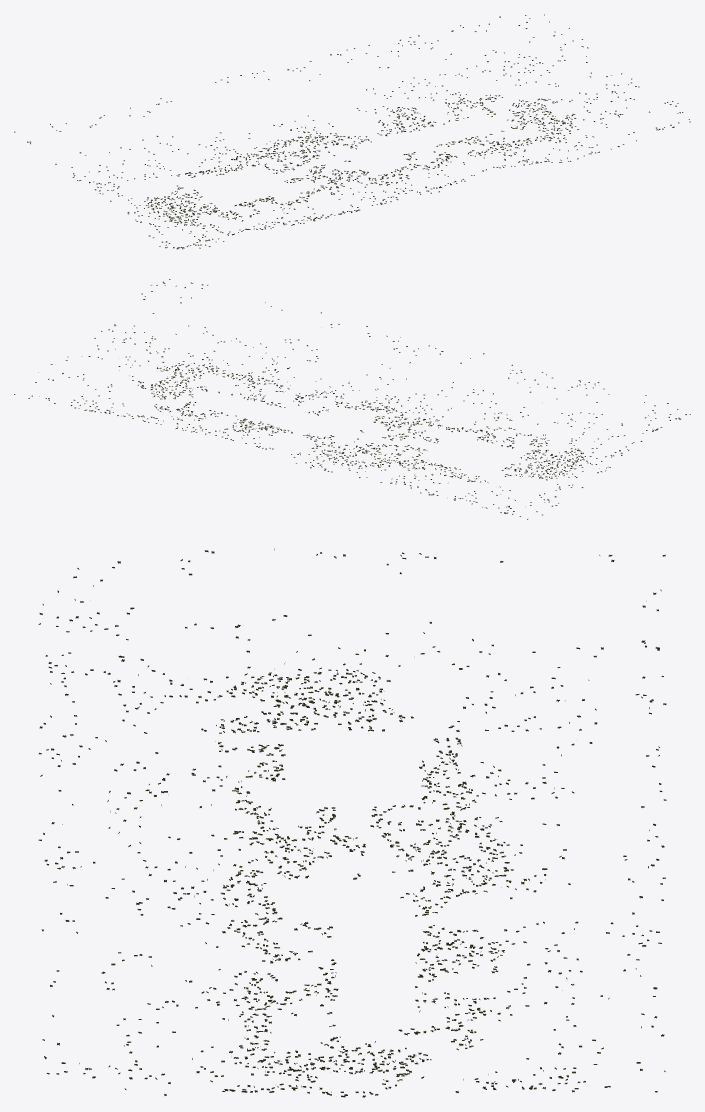
The model's file is SM_Art_Cover_L_HighmooreRoad_HeatherSprig.gltf.
3 renders of one model, top to bottom at view 1: azimuth 30°, elevation 25°; view 2: azimuth 150°, elevation 25°; view 3: azimuth 270°, elevation 25°, orthographic. The views are drawn at different scales.
Visible parts, largest first — view 1: SM_Art_Cover_L_HighmooreRoad_HeatherSprig; view 2: SM_Art_Cover_L_HighmooreRoad_HeatherSprig; view 3: SM_Art_Cover_L_HighmooreRoad_HeatherSprig.
Boxes of the visible parts, box(x1,y1,x2,y2) form: SM_Art_Cover_L_HighmooreRoad_HeatherSprig: box(14, 14, 690, 249); SM_Art_Cover_L_HighmooreRoad_HeatherSprig: box(14, 279, 690, 519); SM_Art_Cover_L_HighmooreRoad_HeatherSprig: box(38, 548, 666, 1097).
Size of the model in its own units: 298 by 23.24 by 152.
1 material, 1 textured.
